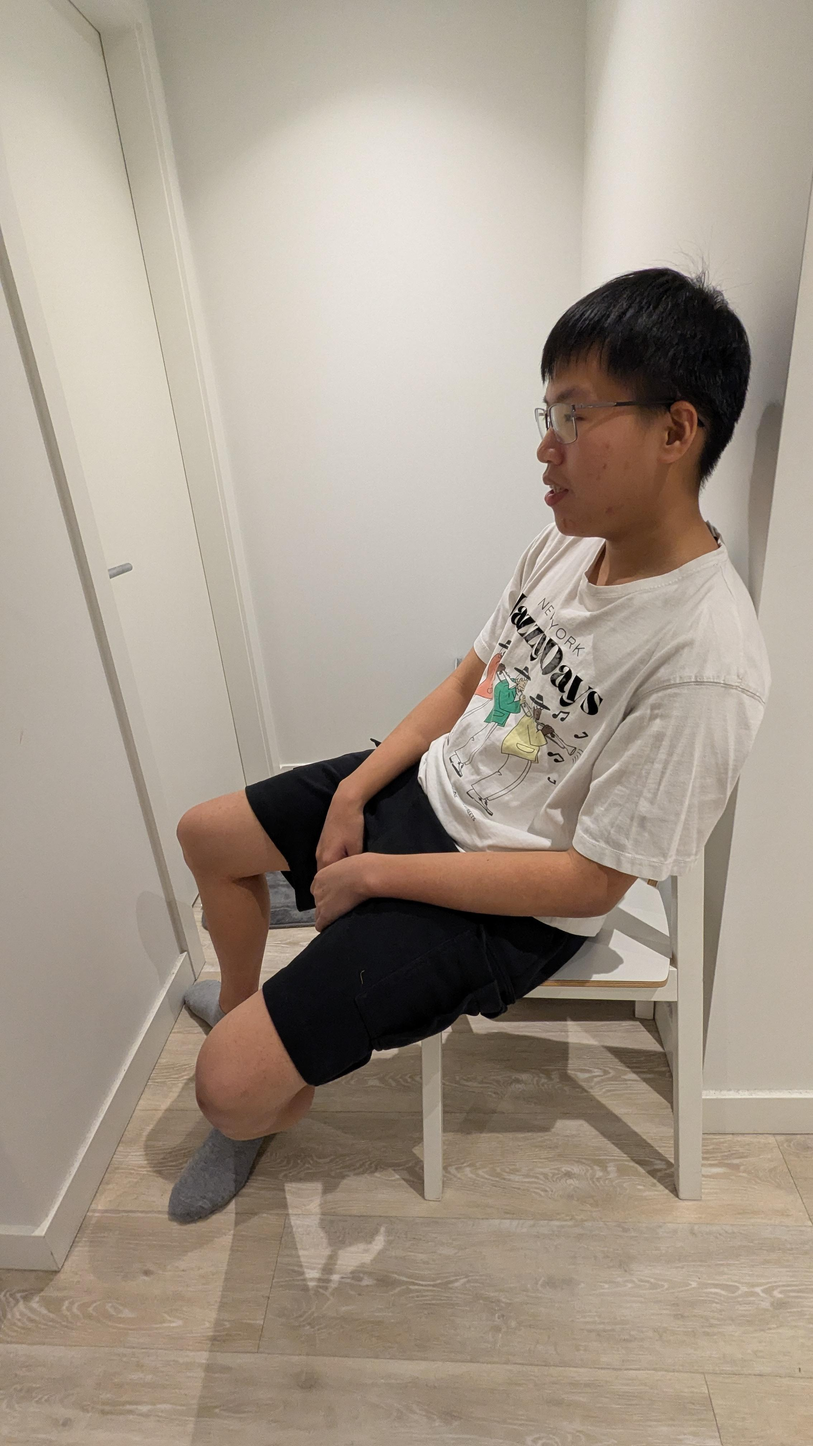BadPosture: (166, 267, 771, 1220)
